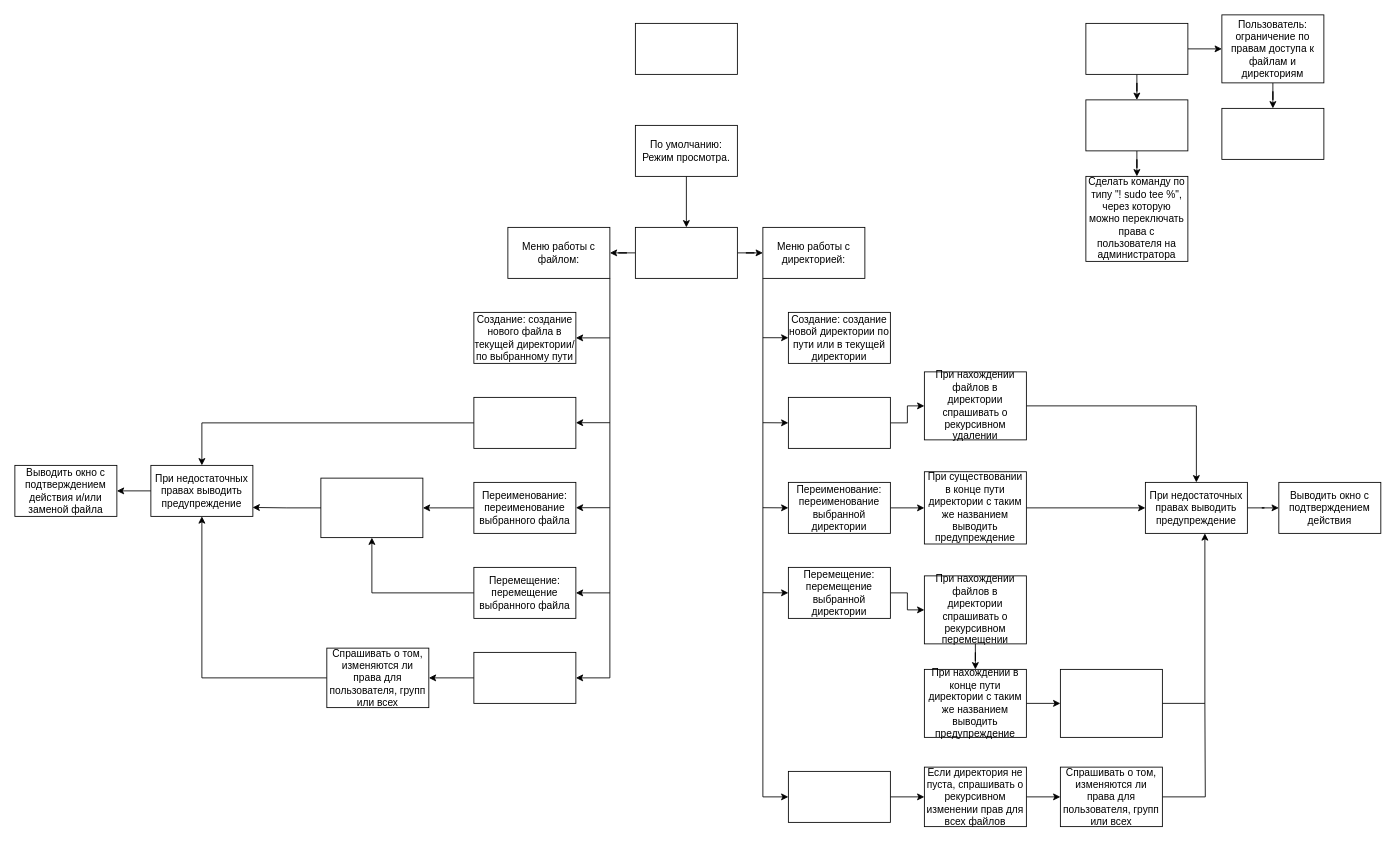
The diagram is 1396 pixels wide and 842 high, and some of its shapes have lost their labels. Each missing label, with the centre of its shape:
Администратор: доступ к файлам и директориям без ограничений: [1272,133]
Изменение прав: Чтение-изменение: [839,796]
Изменение прав: Чтение-изменение-запуск: [524,677]
При нажатии на "Enter" выводить меню, в зависимости от выбранного типа: [686,252]
При нахождении файла в директории с таким же названием выводить предупреждение: [371,507]
Роли: Администратор, Пользователь: [1136,48]
Роль зависит от прав аккаунта, под которой был совершен вход в ОС: [1136,125]
Спрашивать о необходимости слияния директорий (см. перемещение файлов): [1111,703]
Удаление: удаление выбранного файла: [524,422]
Удаление: удаление выбранной директории: [839,422]
Файловый менеджер: [686,48]
